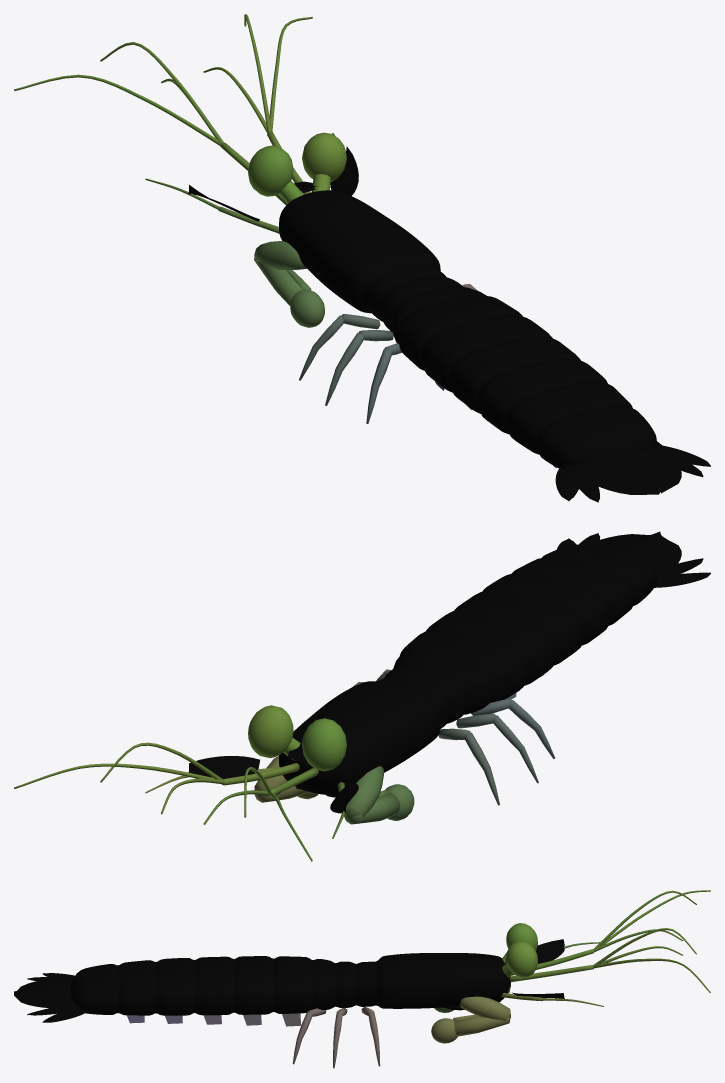
The model's file is shrimp_mantis.glb.
3 renders of one model, top to bottom at view 1: azimuth 30°, elevation 25°; view 2: azimuth 150°, elevation 25°; view 3: azimuth 270°, elevation 25°, orthographic. The views are drawn at different scales.
Visible parts, largest first — view 1: shrimp_mantis; view 2: shrimp_mantis; view 3: shrimp_mantis.
Boxes of the visible parts, x1,y1,x2,y2 form: shrimp_mantis: [14, 14, 710, 502]; shrimp_mantis: [14, 531, 710, 861]; shrimp_mantis: [14, 890, 710, 1068].
Bounding box in the file's own units: 0.0703 × 0.0393 × 0.2027.
